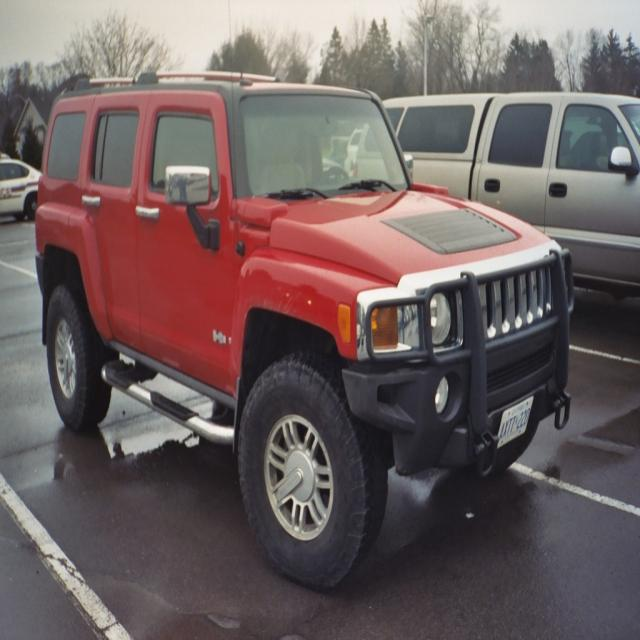car: (32, 74, 556, 587)
